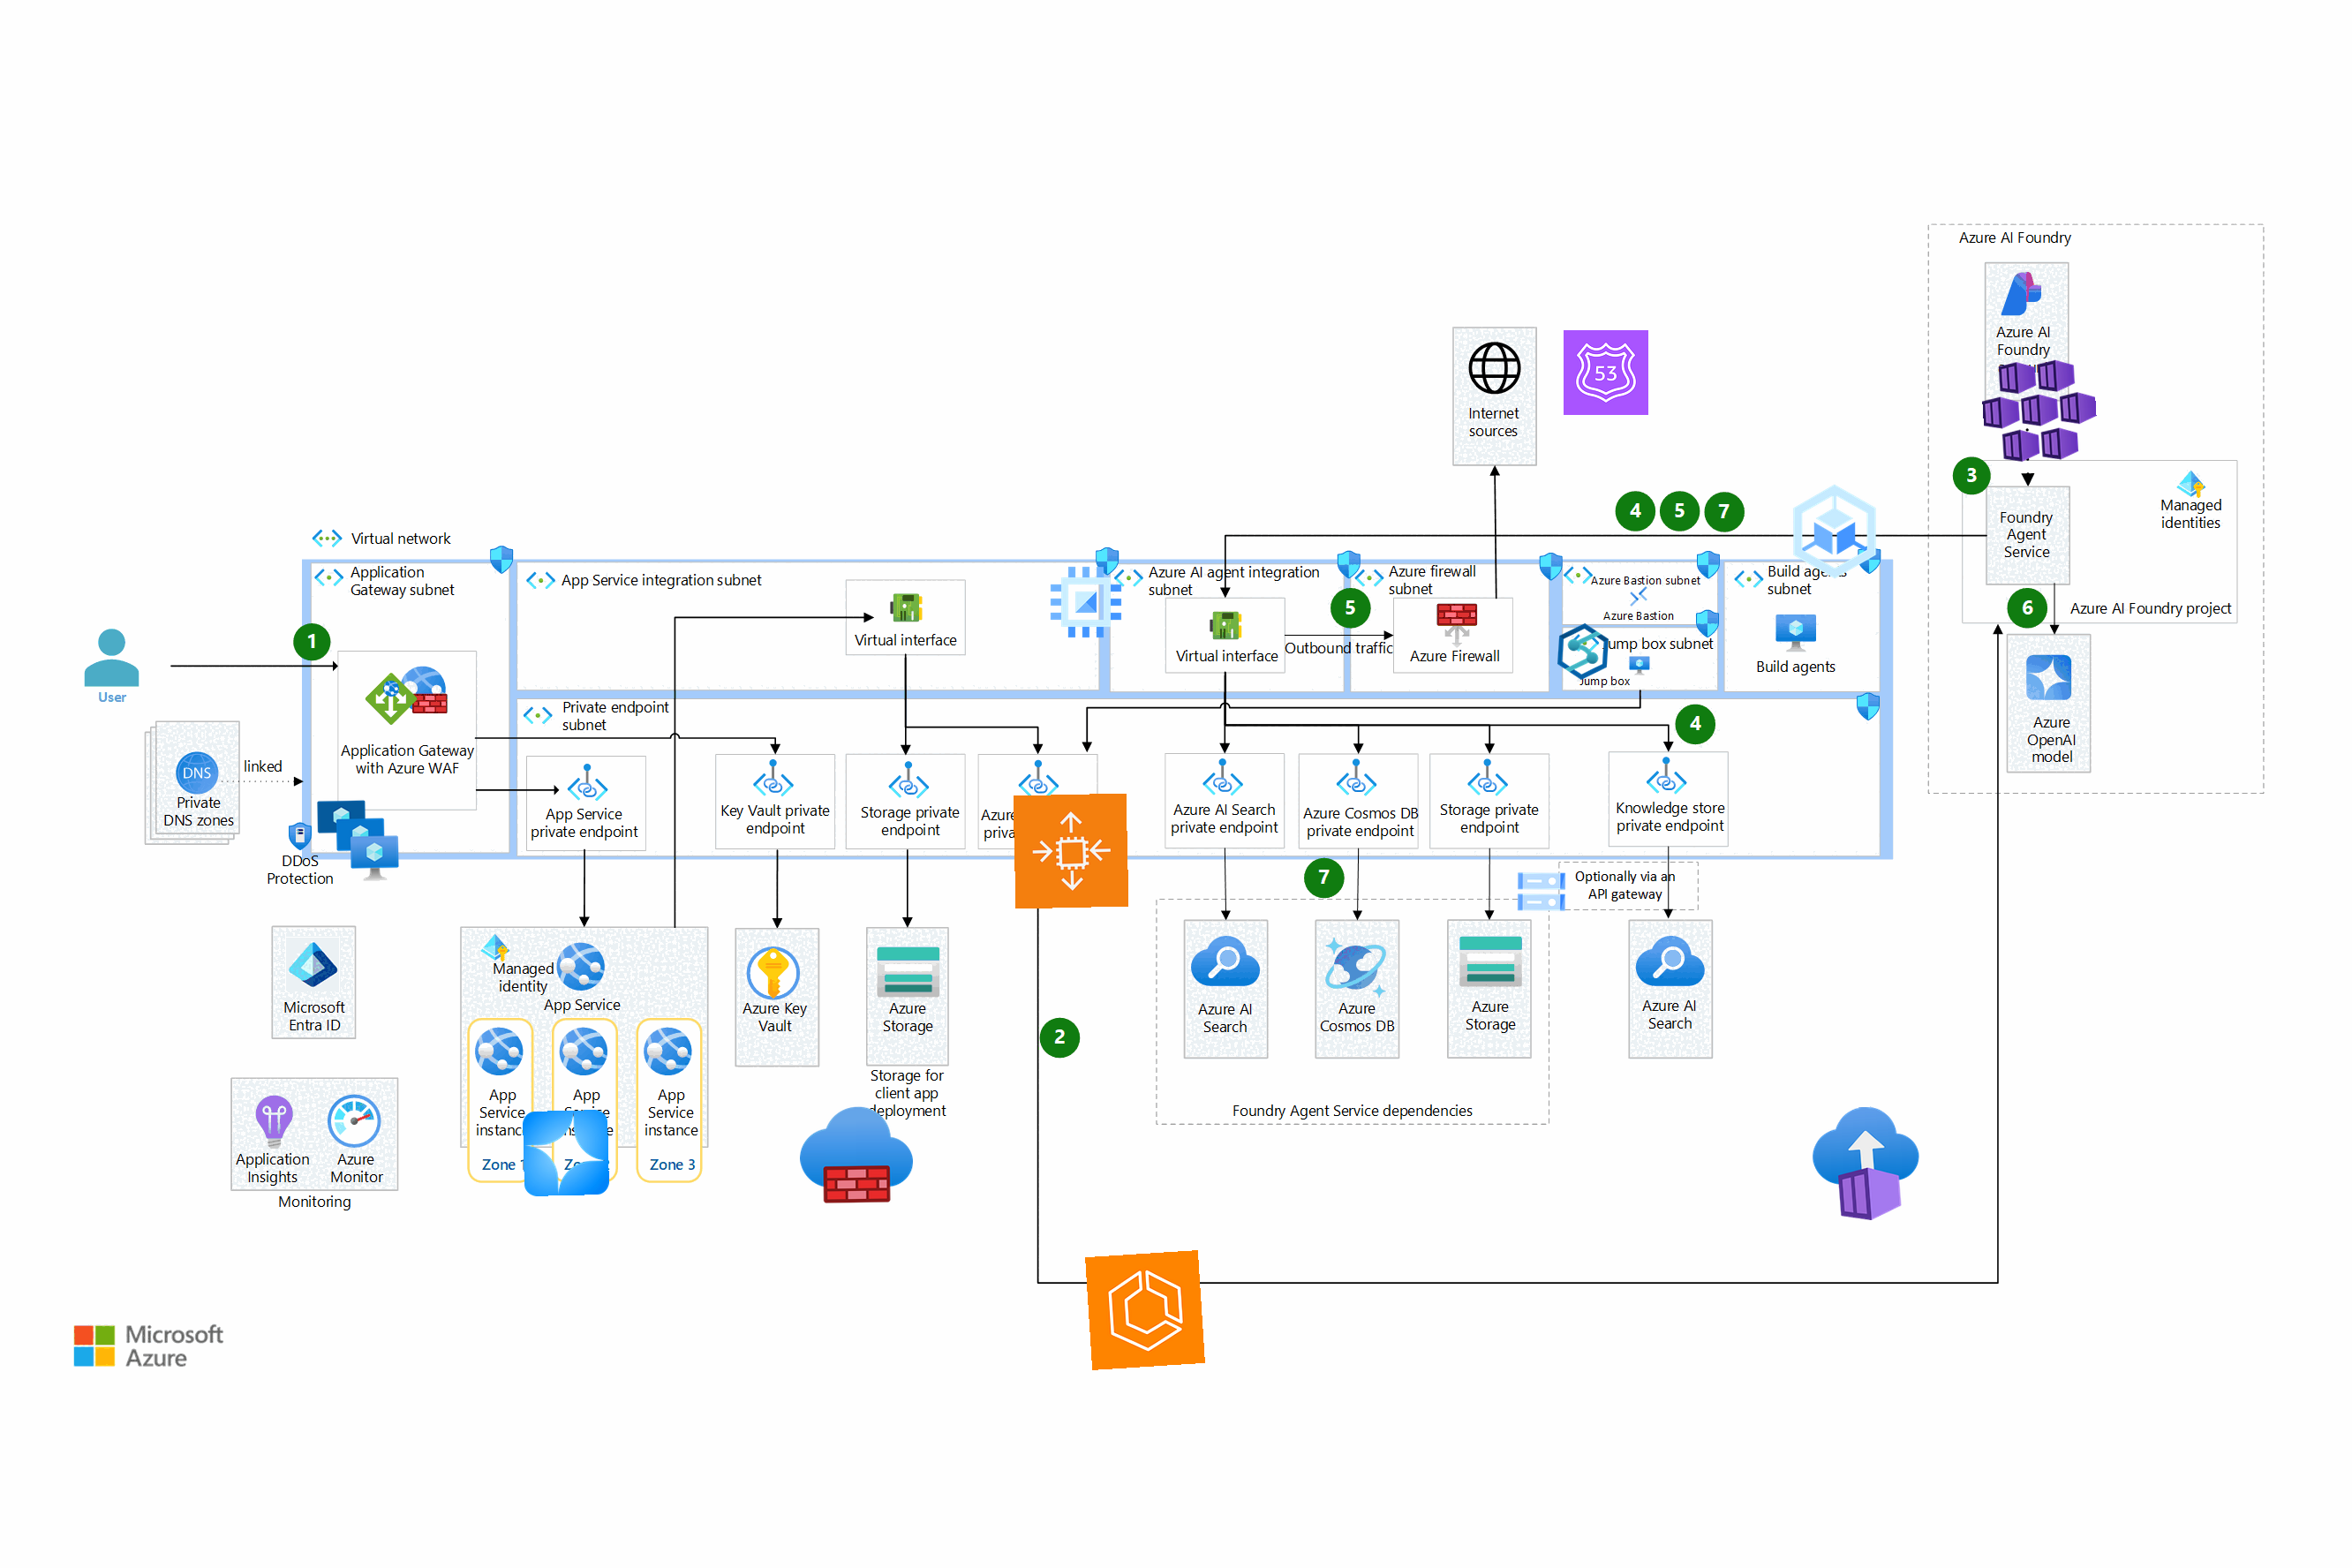aws_amazon_ec2_auto_scaling: (1013, 793, 1129, 910)
aws_amazon_elastic_container_service: (1085, 1249, 1206, 1370)
aws_amazon_route_53: (1563, 329, 1648, 416)
azure_container_instances: (1806, 1102, 1927, 1225)
azure_firewalls: (800, 1097, 914, 1213)
azure_kubernetes_services: (1979, 350, 2100, 469)
azure_openai: (521, 1109, 611, 1197)
azure_synapse_analytics: (1552, 621, 1613, 682)
azure_vm_scale_sets: (313, 796, 401, 882)
gcp_cloud_storage: (1512, 863, 1571, 920)
gcp_compute_engine: (1043, 558, 1129, 646)
gcp_google_kubernetes_engine: (1778, 474, 1892, 590)
